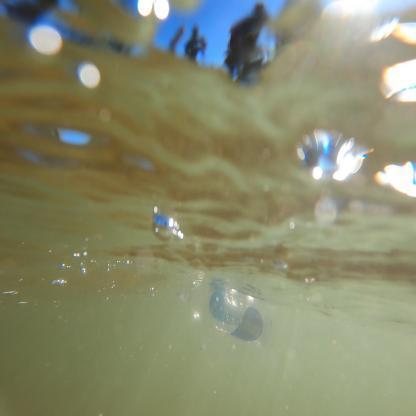Rác: (166, 262, 284, 358)
